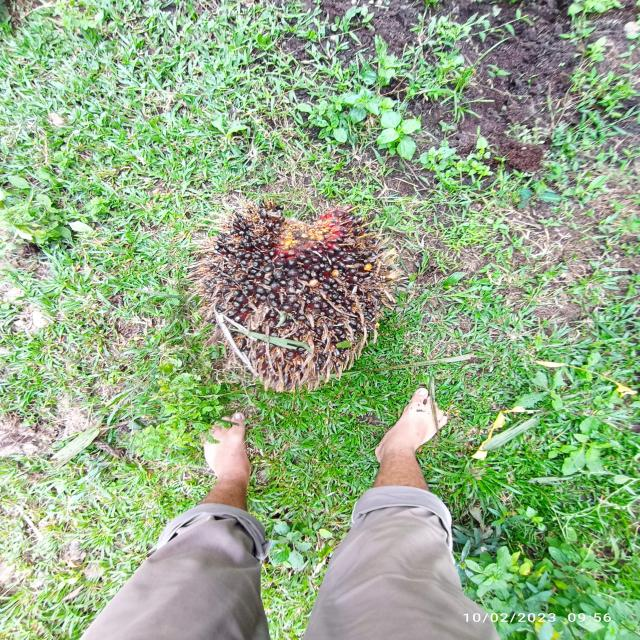fraksi 00: (167, 184, 438, 407)
